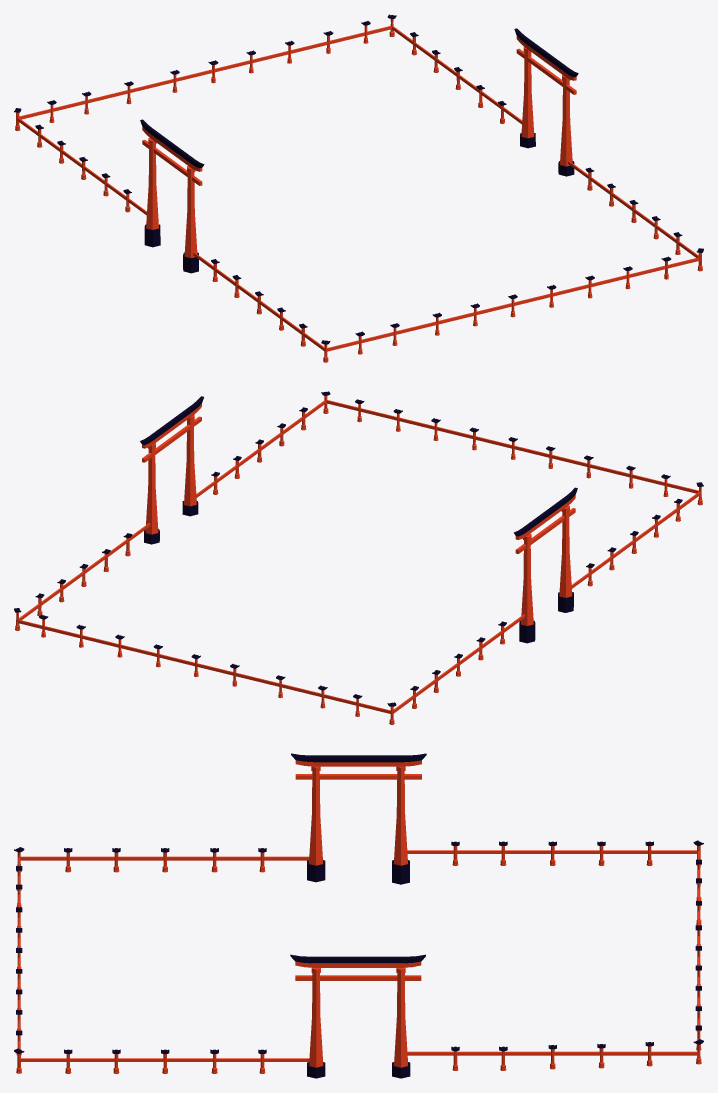
The model's file is Barrier.fbx.
The picture shows the model from 3 angles, top to bottom: view 1: azimuth 30°, elevation 25°; view 2: azimuth 150°, elevation 25°; view 3: azimuth 270°, elevation 25°; orthographic projection. The views are drawn at different scales.
Visible parts, largest first — view 1: Barrier; view 2: Barrier; view 3: Barrier.
Boxes of the visible parts, x1,y1,x2,y2 form: Barrier: (14, 14, 703, 362); Barrier: (14, 391, 703, 724); Barrier: (14, 753, 703, 1078).
Bounding box in the file's own units: 7069 × 1986 × 9801.
